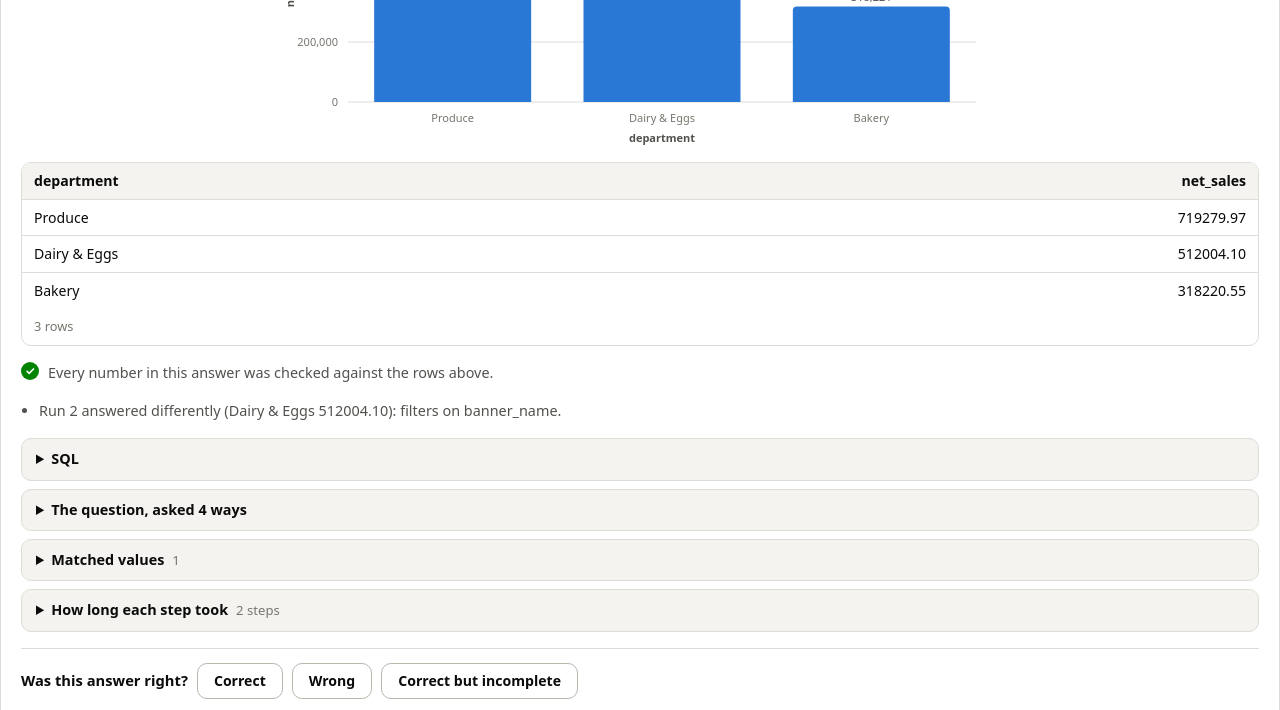
AnswerView, under the ensemble › shows the agreement beside the sentence, the dissent among the notes, and the runs folded away
(page scrolled)
Expected: the list named "What the other runs said" is shown, [39,401,561,420]
What coordinates should you click on to do the following:
click the heading "The question, asked 4 ways"
I would click on:
 (149, 509)
Its box is [51,500,247,519].
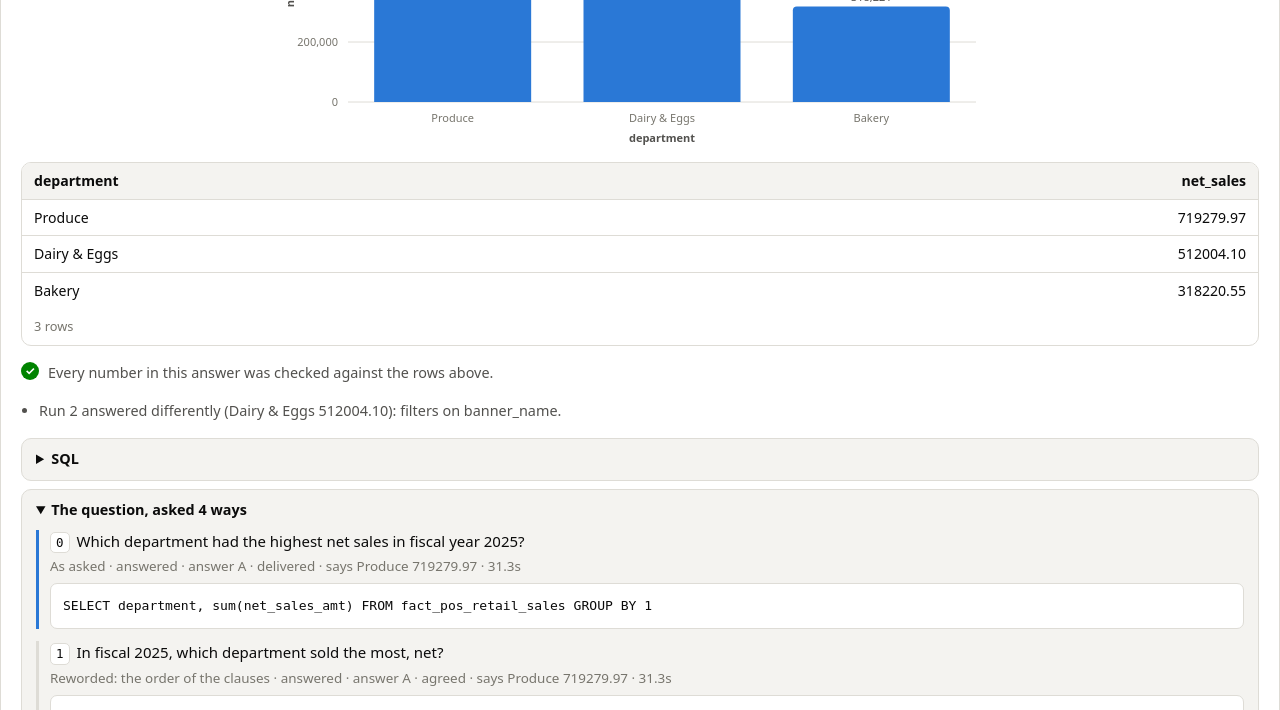
Now the text "In fiscal 2025, which department sold the most, net?" is shown, box [76,642,444,662]
